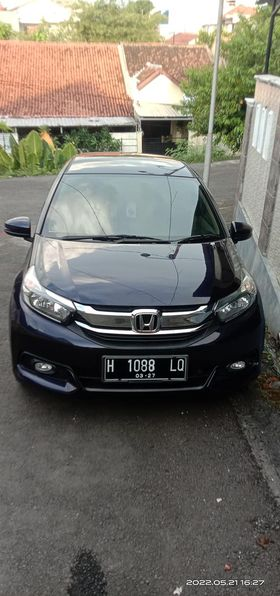plate: (102, 354, 190, 386)
